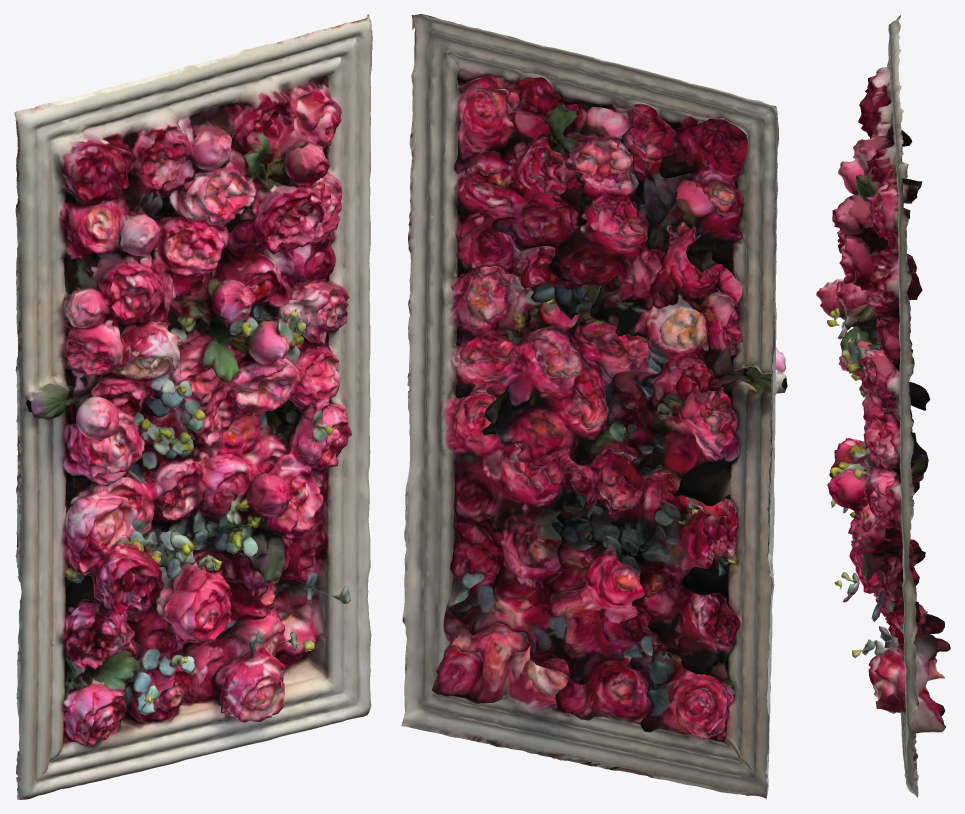
The model's file is flowerframe.glb.
3 views of the same model, side by side, from view 1: azimuth 30°, elevation 25°; view 2: azimuth 150°, elevation 25°; view 3: azimuth 270°, elevation 25° (orthographic). The views are drawn at different scales.
Visible parts, largest first — view 1: Roses; view 2: Roses; view 3: Roses.
Part boxes in pixels (bbox=[...]): Roses: bbox=[14, 14, 372, 799]; Roses: bbox=[401, 14, 787, 799]; Roses: bbox=[816, 15, 950, 797].
Size of the model in its own units: 0.6094 by 1.13 by 0.2183.
1 material, 1 textured.
